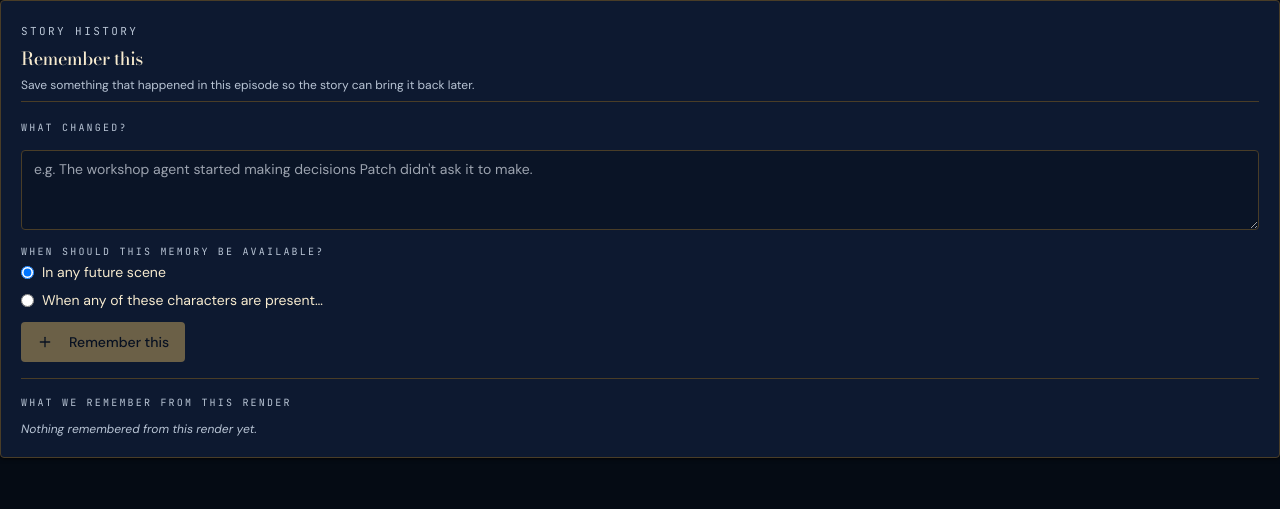
SESSION 264 dogfood UX — Remember this panel › "When any of these characters are present…" reveals the Episode cast toggles
Step 1. Click the radio button labelled "When any of these characters are present…" → click(28, 300), box [21, 294, 34, 306]
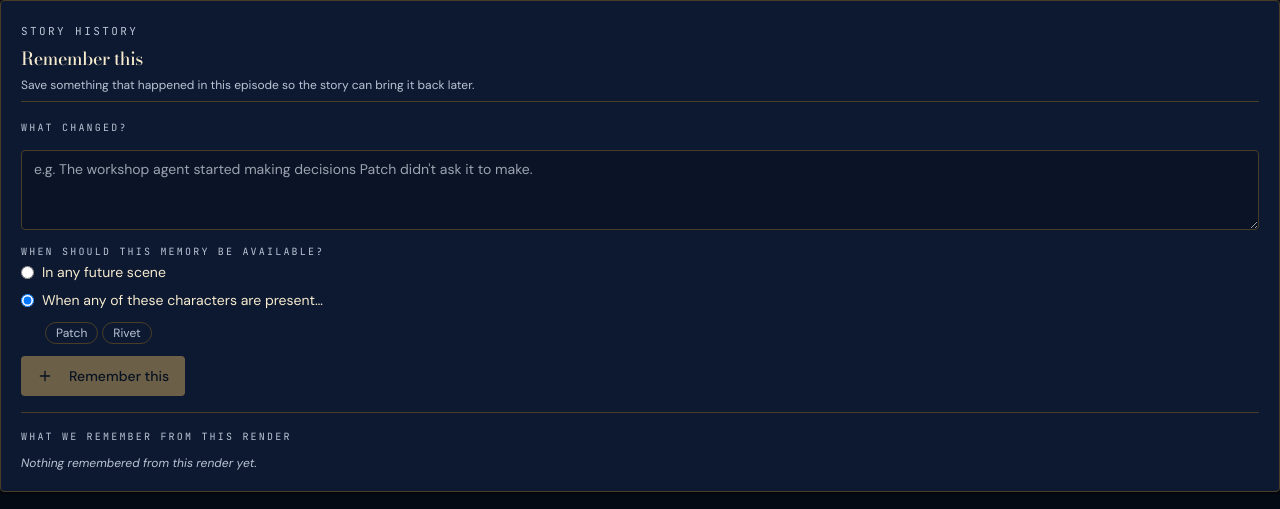
expect the element with test id "nm-witness-picker" is shown: met, box [45, 322, 152, 344]
